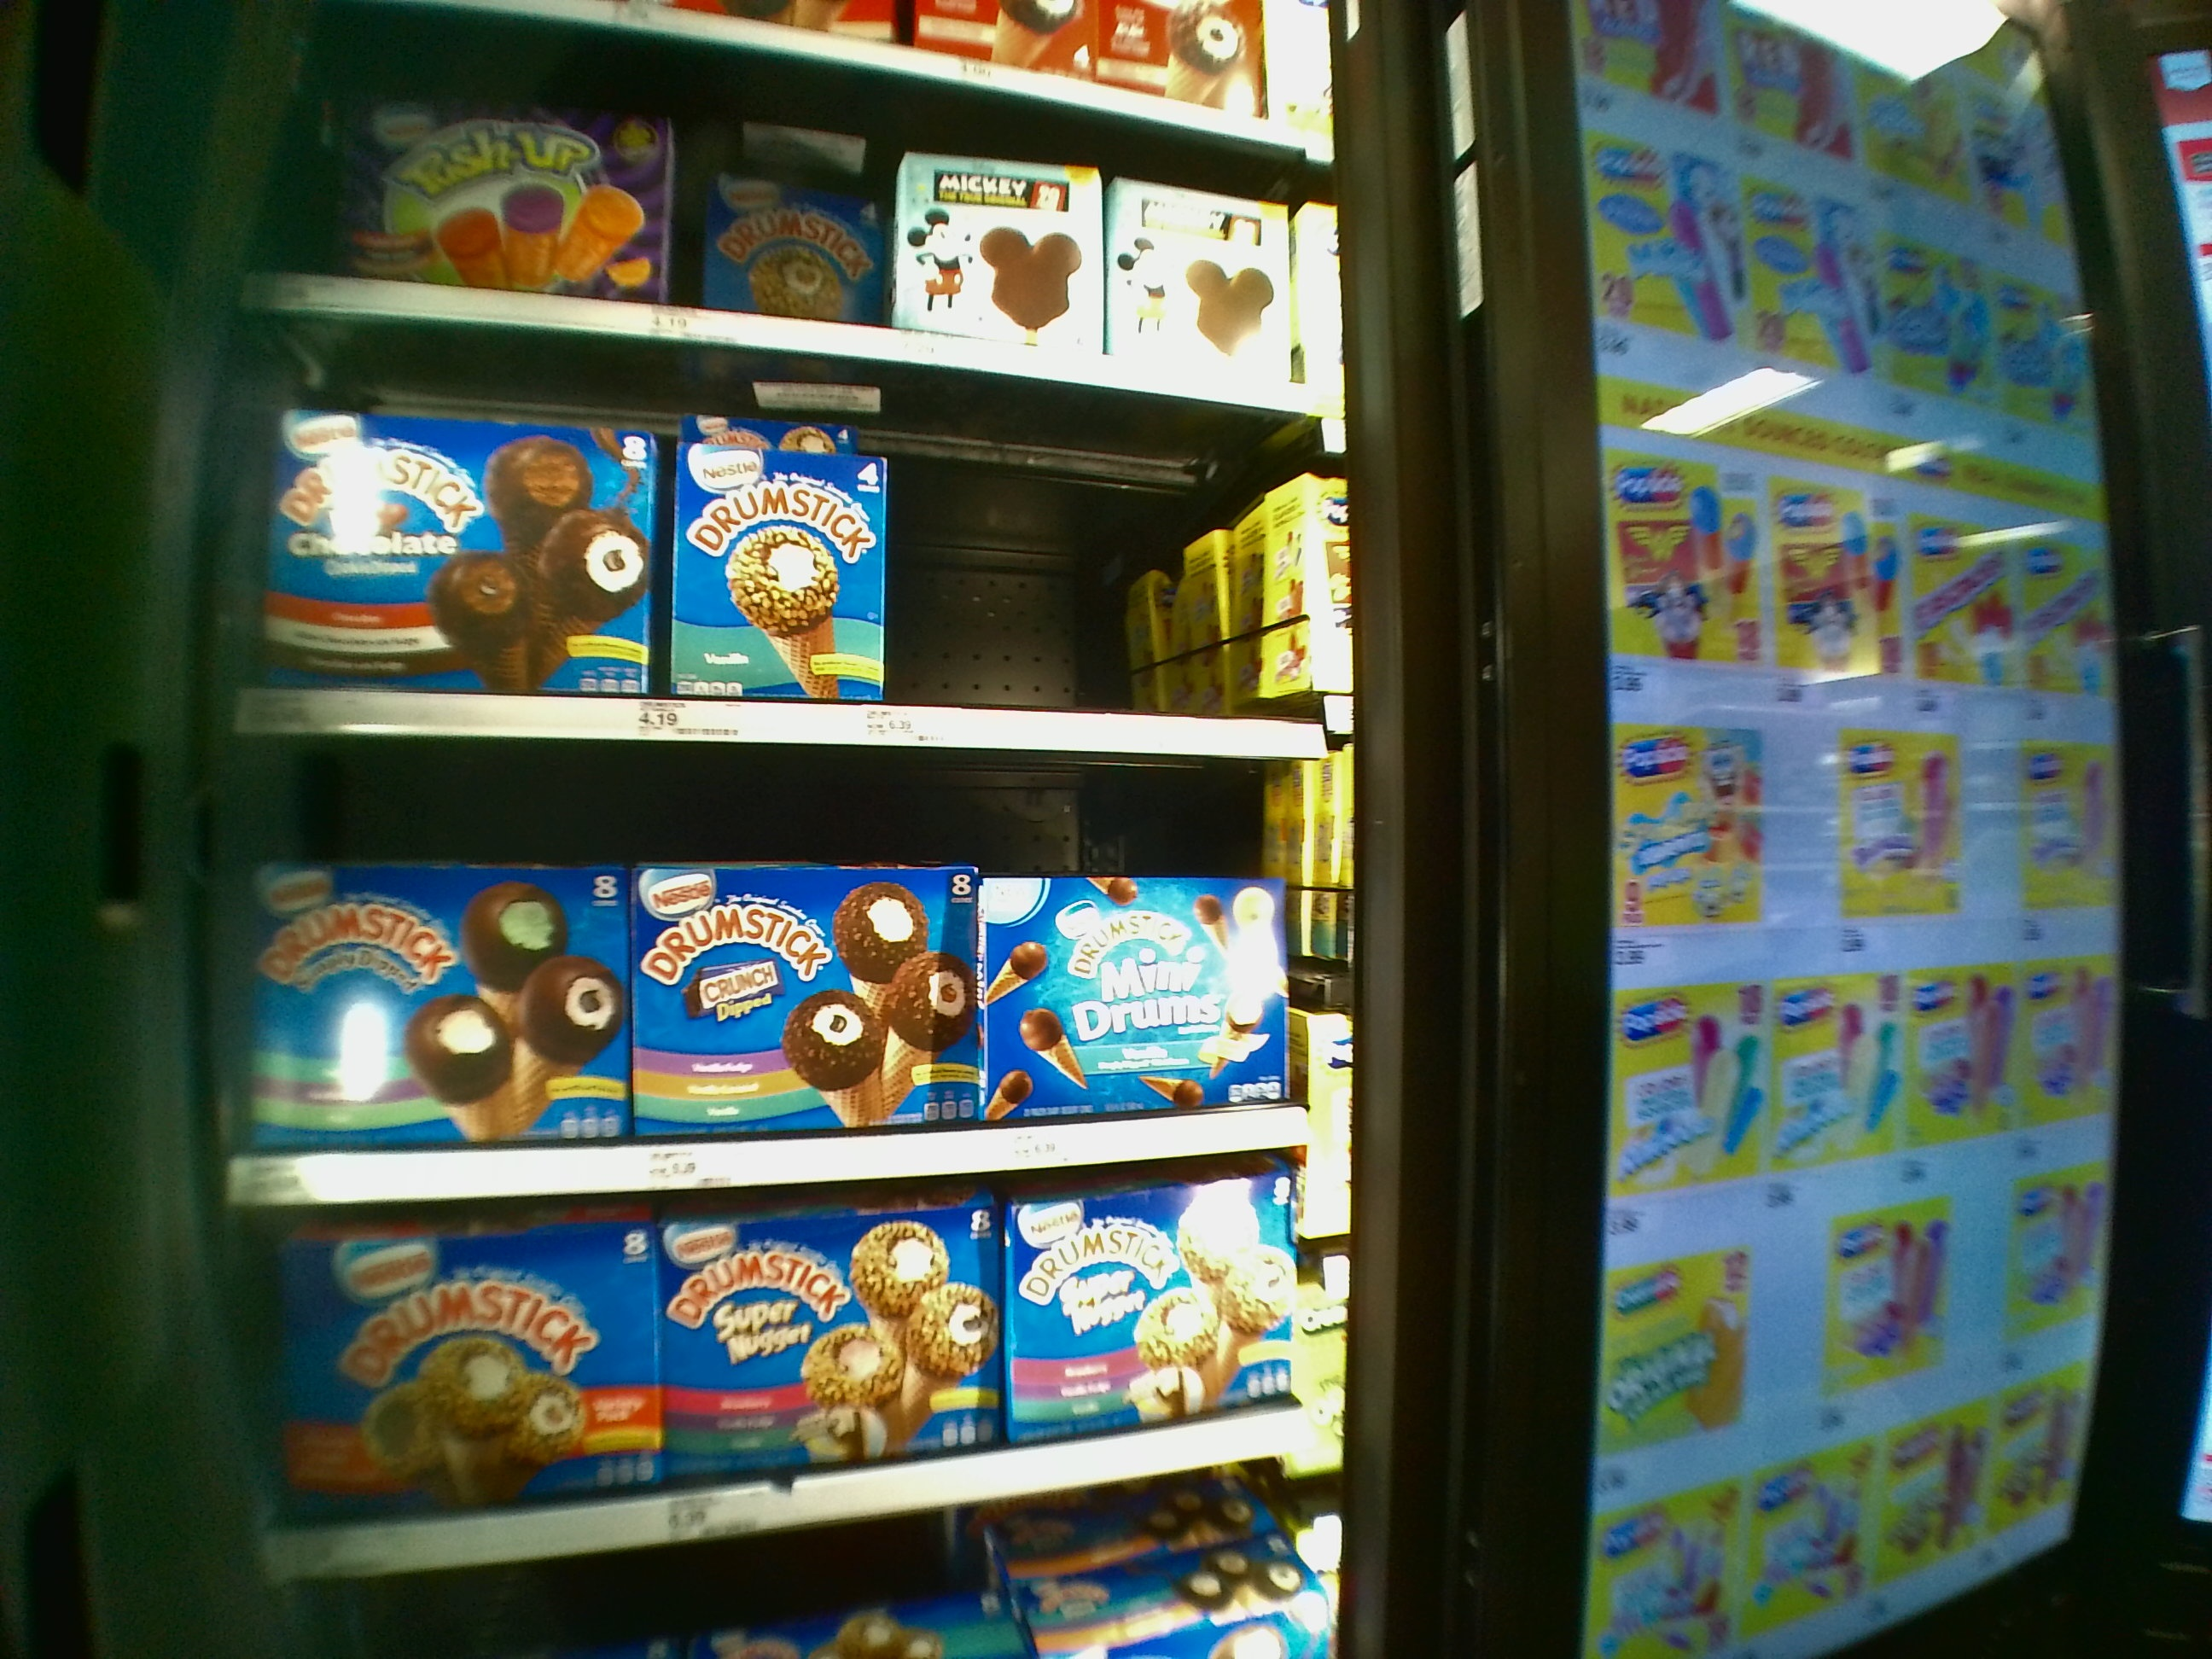shelf: (228, 735, 1324, 1173), (223, 357, 1338, 762), (239, 1171, 1352, 1520)
